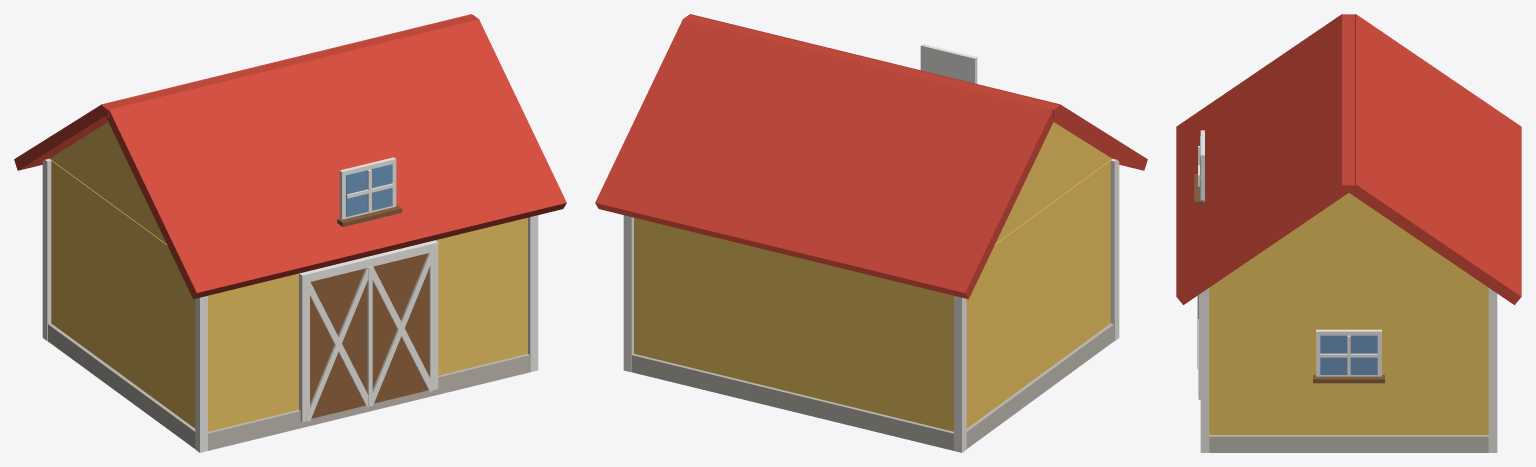
The model's file is barn.obj.
3 renders of one model, left to right at view 1: azimuth 30°, elevation 25°; view 2: azimuth 150°, elevation 25°; view 3: azimuth 270°, elevation 25°, orthographic. The views are drawn at different scales.
Visible parts, largest first — view 1: walls, roof, glow; view 2: walls, roof; view 3: roof, walls, glow.
Boxes of the visible parts, x1,y1,x2,y2 form: walls: (42,122,538,452); roof: (14,14,566,299); glow: (346,164,392,216); walls: (623,44,1119,452); roof: (595,14,1147,299); roof: (1176,14,1521,304); walls: (1194,130,1497,452); glow: (1200,136,1377,374).
Size of the model in its own units: 5.62 by 4.23 by 4.79.
